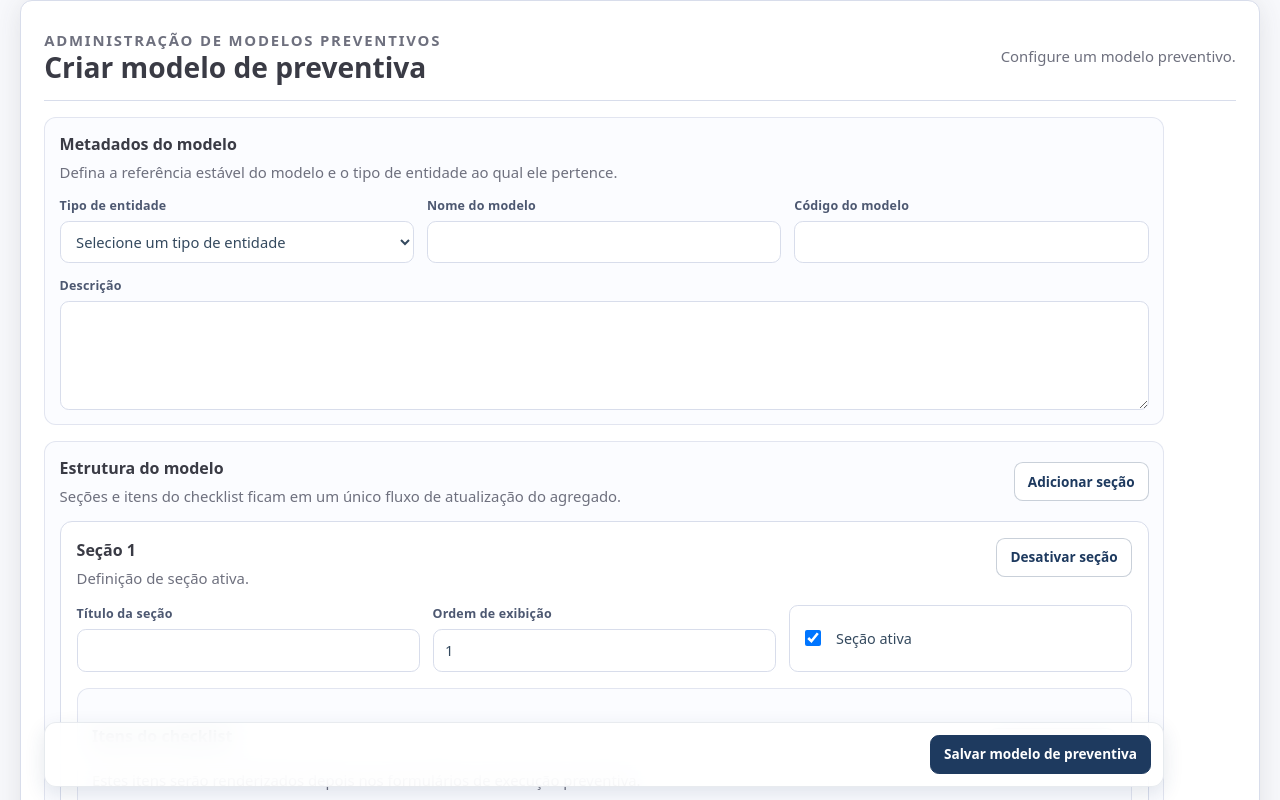
Test: PreventiveTemplateForm › should localize validation messages when Portuguese is selected
Click the button "Salvar modelo de preventiva": (1040, 754) left=930, top=734, right=1151, bottom=773
(page scrolled)
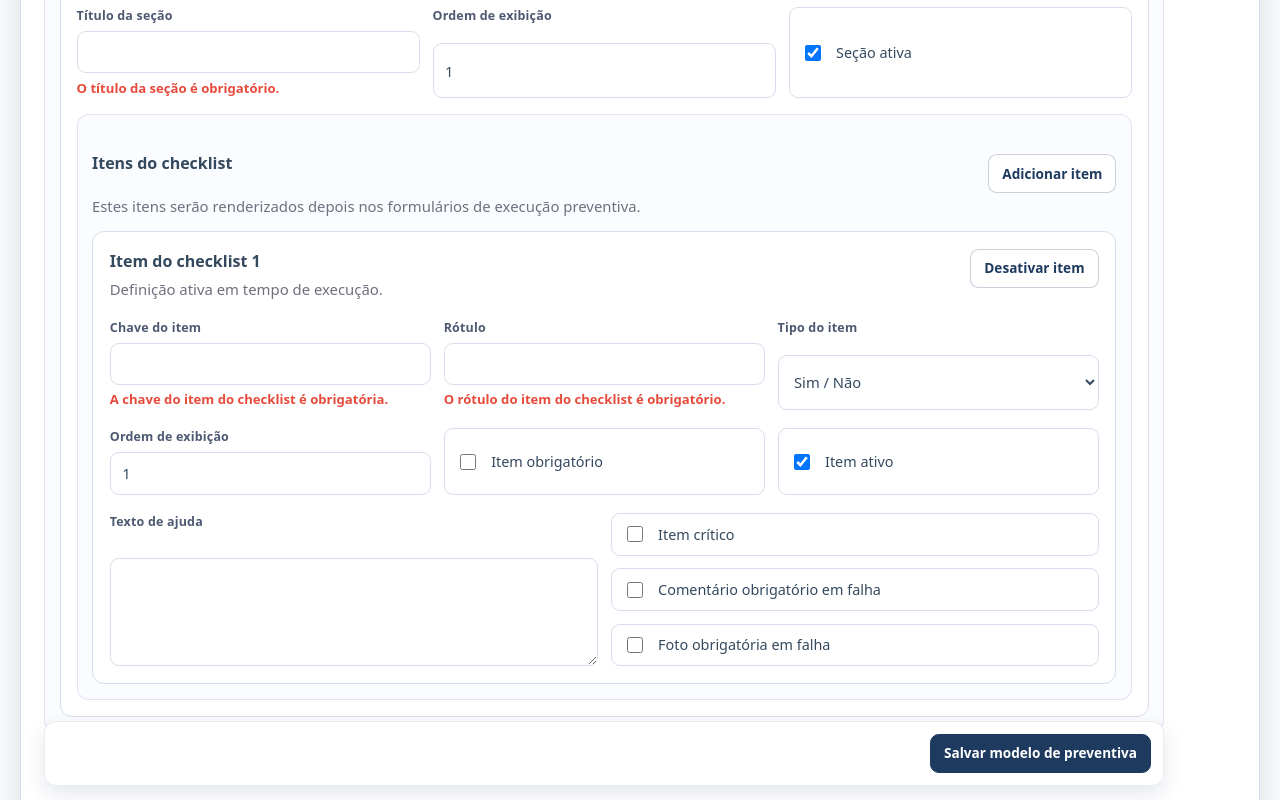
Expected: the text "O título da seção é obrigatório." is shown, left=77, top=79, right=279, bottom=97
Expected: the text "A chave do item do checklist é obrigatória." is shown, left=110, top=390, right=431, bottom=410
